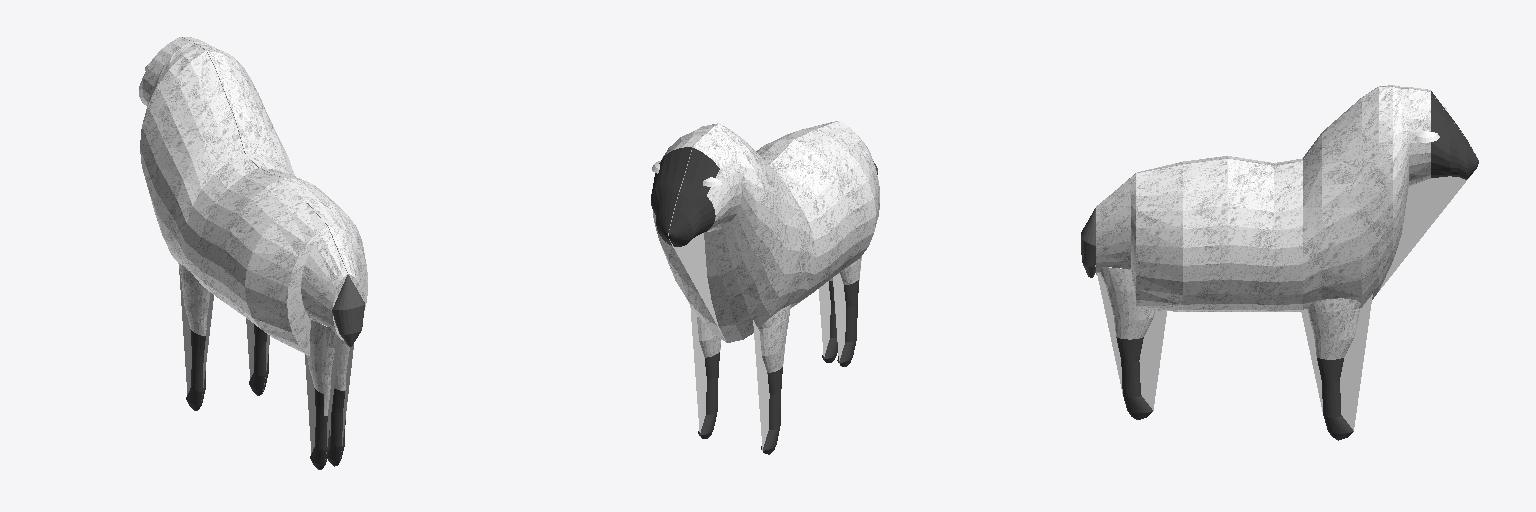
The picture shows the model from 3 angles: view 1: azimuth 30°, elevation 25°; view 2: azimuth 150°, elevation 25°; view 3: azimuth 270°, elevation 25°; orthographic projection.
Parts seen in each view (by area): view 1: Mesh4 Model, Mesh1 Model, Mesh9 Model, Mesh10 Model, Mesh2 Model, Mesh3 Model, Mesh12 Model; view 2: Mesh4 Model, Mesh1 Model, Mesh10 Model, Mesh3 Model, Mesh9 Model, Mesh2 Model; view 3: Mesh1 Model, Mesh8 Model, Mesh7 Model, Mesh3 Model, Mesh2 Model, Mesh11 Model, Mesh4 Model.
Part boxes in pixels (left/top/right/bottom): Mesh4 Model: left=139, top=37, right=347, bottom=355; Mesh1 Model: left=182, top=37, right=367, bottom=310; Mesh9 Model: left=305, top=320, right=337, bottom=469; Mesh10 Model: left=178, top=263, right=210, bottom=410; Mesh2 Model: left=327, top=339, right=349, bottom=466; Mesh3 Model: left=246, top=318, right=266, bottom=395; Mesh12 Model: left=332, top=275, right=354, bottom=346; Mesh4 Model: left=669, top=121, right=879, bottom=342; Mesh1 Model: left=651, top=121, right=837, bottom=342; Mesh10 Model: left=753, top=305, right=790, bottom=454; Mesh3 Model: left=690, top=305, right=720, bottom=438; Mesh9 Model: left=833, top=256, right=861, bottom=366; Mesh2 Model: left=819, top=278, right=837, bottom=362; Mesh1 Model: left=1096, top=87, right=1478, bottom=311; Mesh8 Model: left=1301, top=298, right=1360, bottom=440; Mesh7 Model: left=1095, top=265, right=1154, bottom=419; Mesh3 Model: left=1340, top=294, right=1372, bottom=429; Mesh2 Model: left=1139, top=311, right=1166, bottom=410; Mesh11 Model: left=1081, top=208, right=1095, bottom=277; Mesh4 Model: left=1097, top=85, right=1476, bottom=205.
Size of the model in its own units: 123 by 333 by 356.
5 materials, 1 textured.